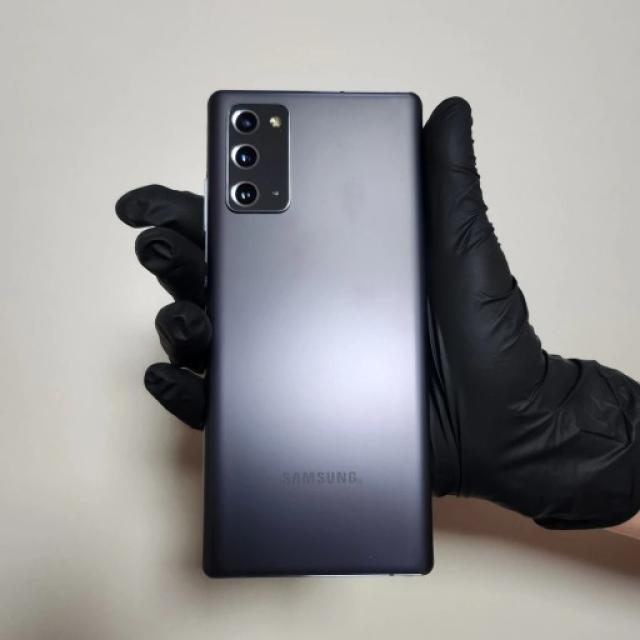phone: (204, 91, 434, 576)
